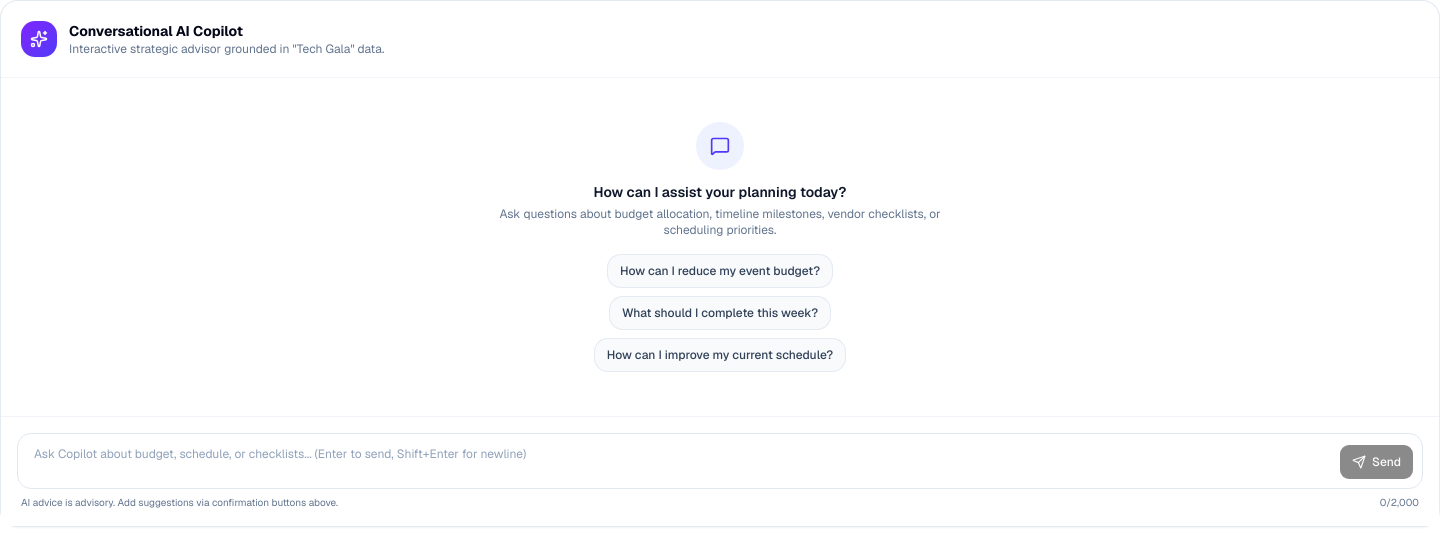
it: CopilotChatCard Component › Interactive Text Entry & Keyboard Shortcuts › updates character counter as user types into chat input
Type "What are the catering options?" into the text box named "Ask the Copilot a planning question" at (678, 461), box [26, 442, 1331, 480]
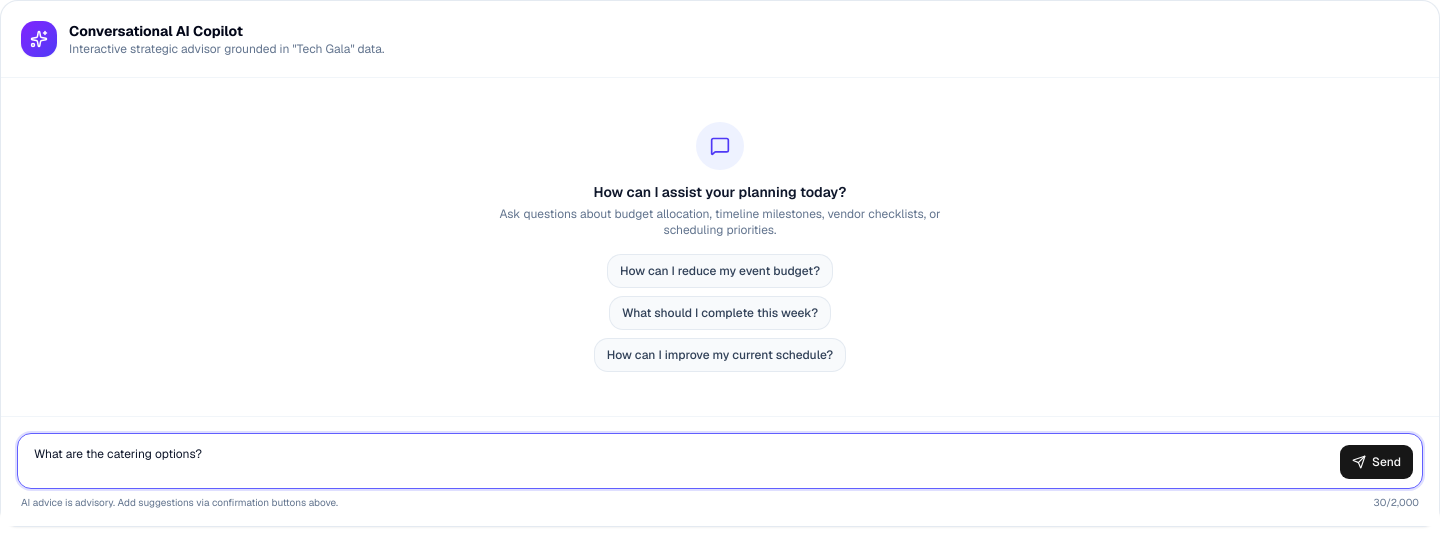
Check: the text "30/2,000" is shown, box [1374, 495, 1419, 510]
